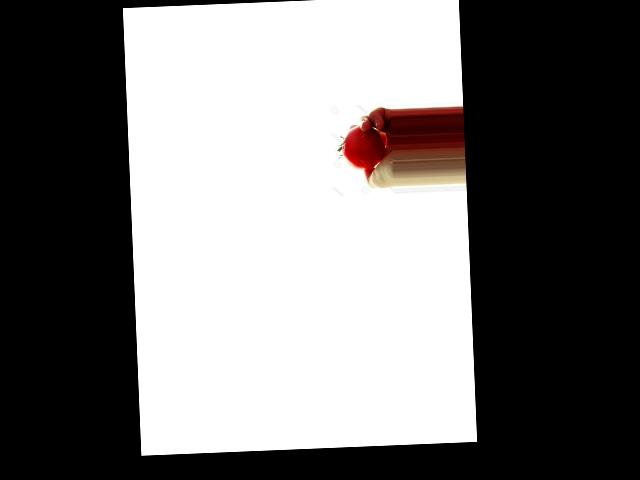tomato: (341, 123, 385, 169)
